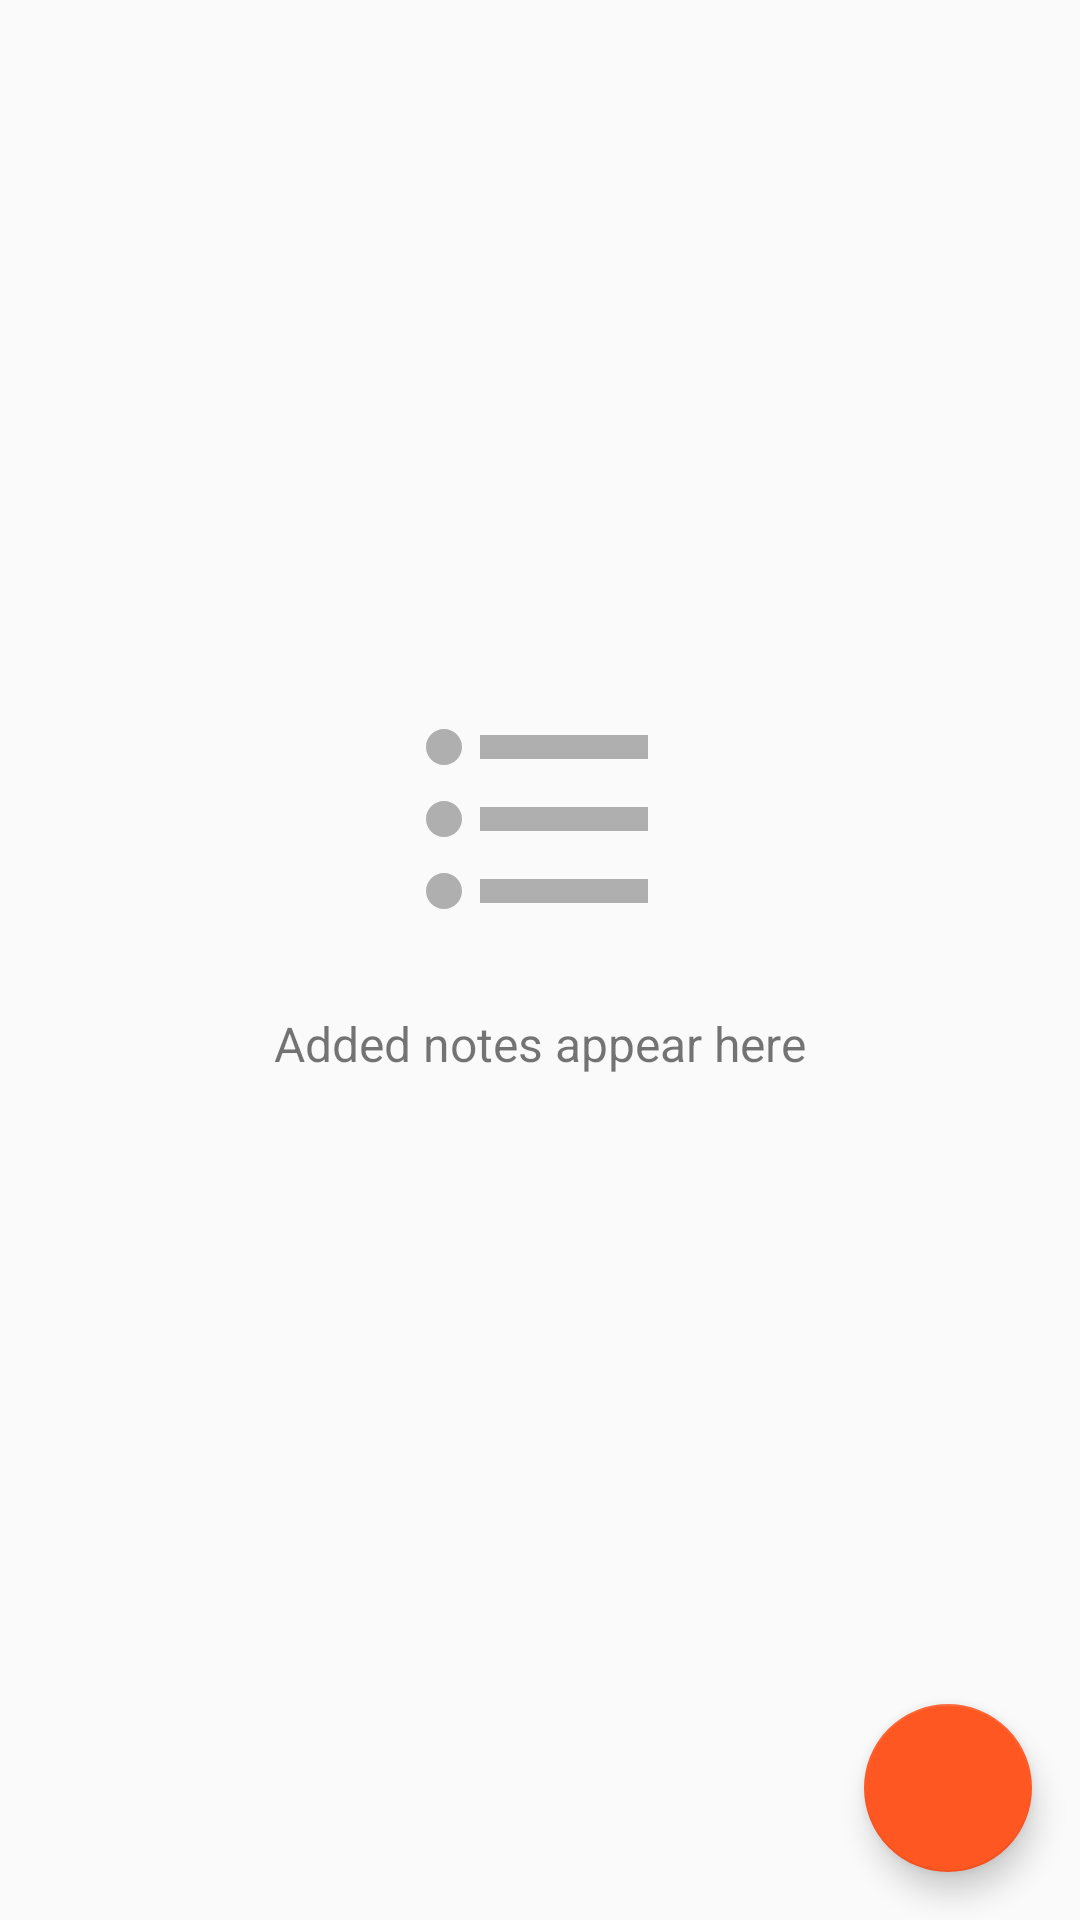

Screen size 1080px×1920px. Icon name, then its box in pixels as [x1, y1, x2, y2]:
Empty list: [426, 729, 648, 909]
